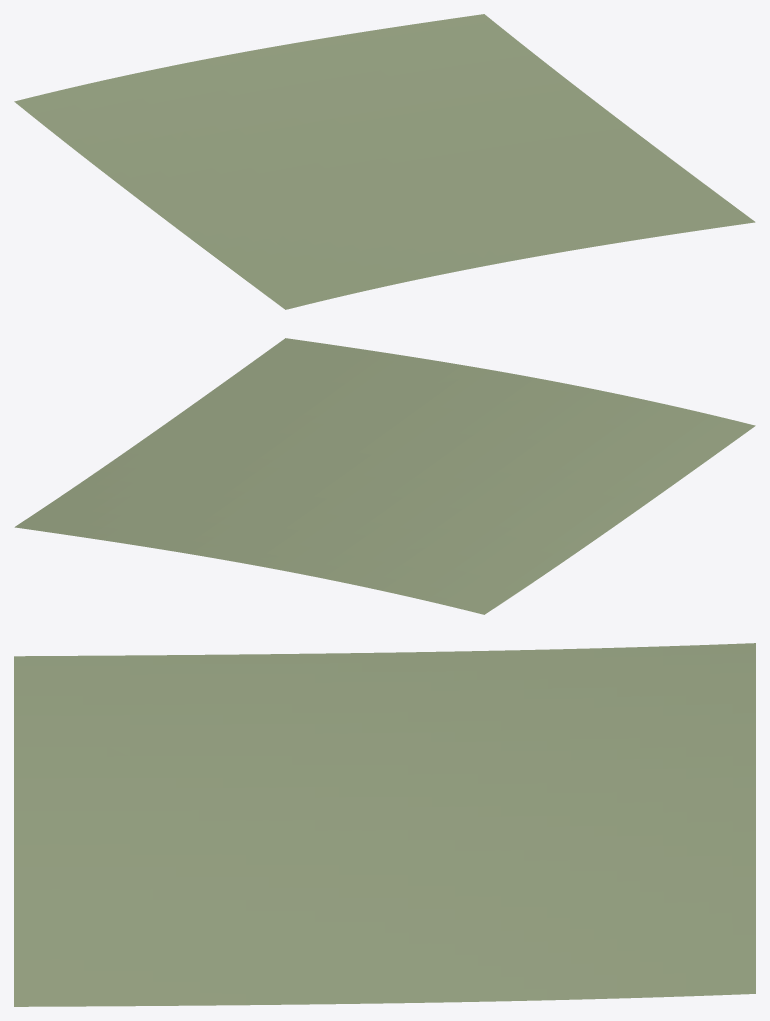
File: valley-11-4.glb
3 renders of one model, top to bottom at view 1: azimuth 30°, elevation 25°; view 2: azimuth 150°, elevation 25°; view 3: azimuth 270°, elevation 25°, orthographic. The views are drawn at different scales.
Visible parts, largest first — view 1: valley-11-4; view 2: valley-11-4; view 3: valley-11-4.
Part boxes in pixels (bbox=[...]): valley-11-4: bbox=[14, 14, 755, 309]; valley-11-4: bbox=[14, 338, 755, 614]; valley-11-4: bbox=[14, 643, 755, 1006].
Bounding box in the file's own units: 256 × 19.16 × 256.
